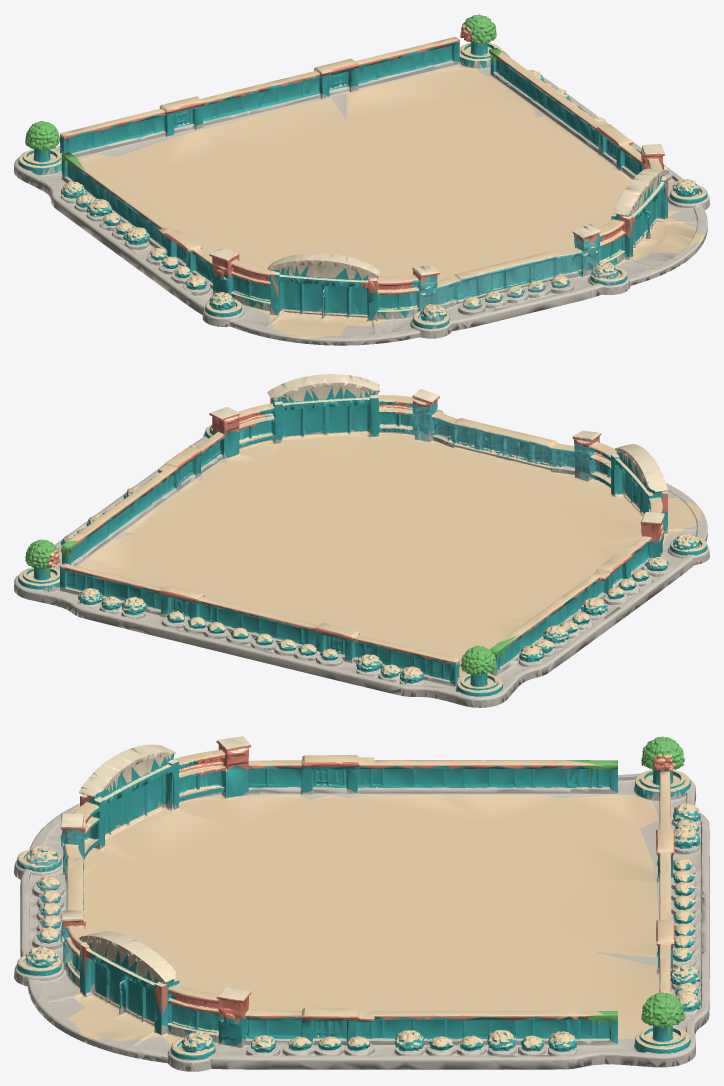
File: diamond_market.fbx
The picture shows the model from 3 angles, top to bottom: view 1: azimuth 30°, elevation 25°; view 2: azimuth 150°, elevation 25°; view 3: azimuth 270°, elevation 25°; orthographic projection. The views are drawn at different scales.
Visible parts, largest first — view 1: SM_DiamondCourtyardMarket; view 2: SM_DiamondCourtyardMarket; view 3: SM_DiamondCourtyardMarket.
Part boxes in pixels (x1,y1,x2,y2): SM_DiamondCourtyardMarket: (14,14,709,345); SM_DiamondCourtyardMarket: (14,374,709,707); SM_DiamondCourtyardMarket: (14,736,709,1071).
Size of the model in its own units: 21.93 by 2.64 by 21.93.
